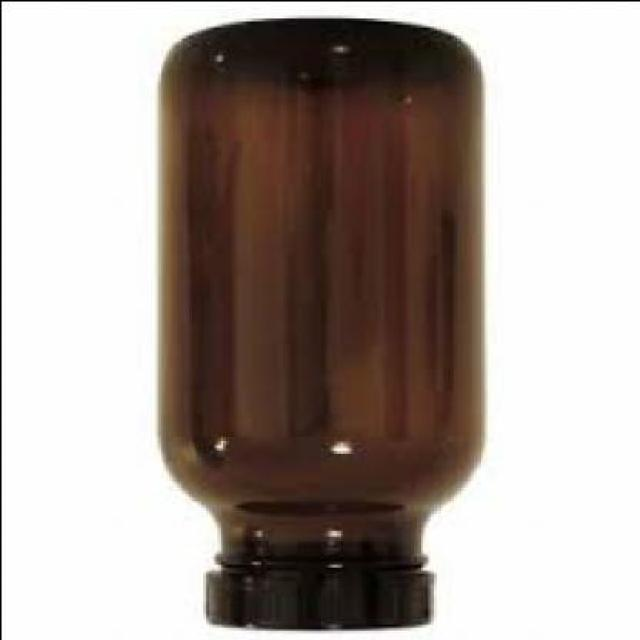glass: (154, 21, 478, 572)
metal: (200, 565, 428, 632)
